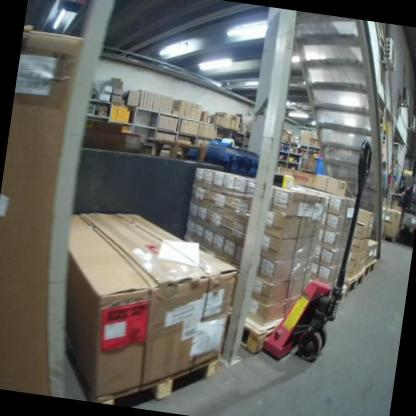pallet: (95, 341, 221, 416), (242, 325, 271, 358), (344, 270, 363, 296), (362, 258, 377, 278), (399, 223, 416, 233)
pallet_truck: (252, 124, 382, 371), (393, 153, 416, 242)
